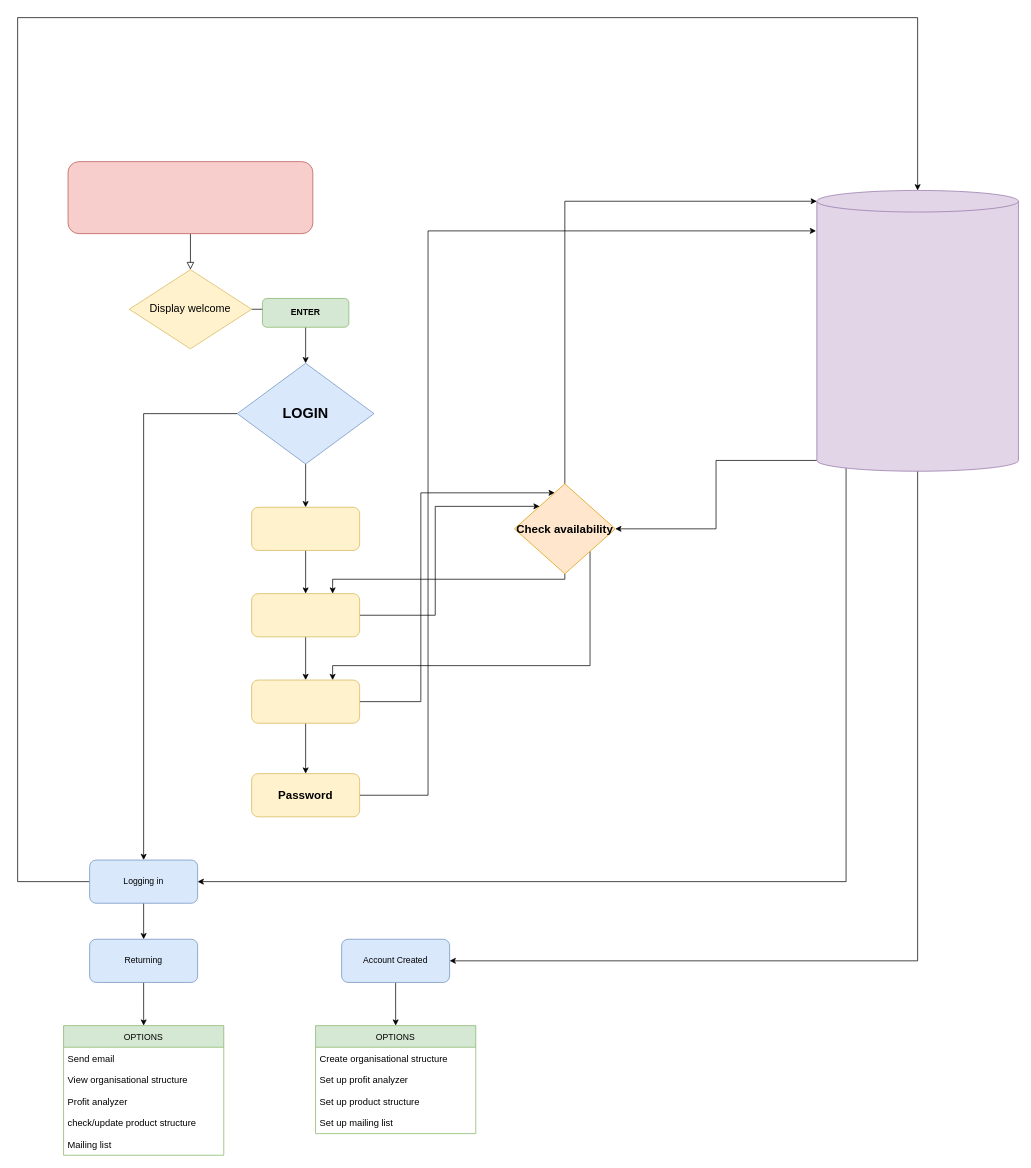
Some shapes in this 1031 by 1168 pixel diagram are drawn without their labels. The centre of each missing label's shape, as x and y in pixels:
"Create Account" goes at point (305, 528).
"Database" goes at point (917, 330).
"Email" goes at point (305, 701).
"START" goes at point (190, 197).
"Username" goes at point (305, 615).
